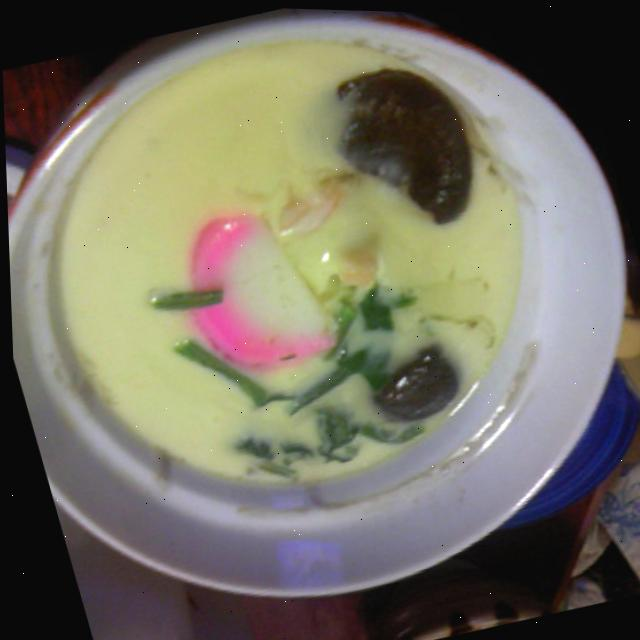鸡蛋料理: (0, 0, 640, 599)
